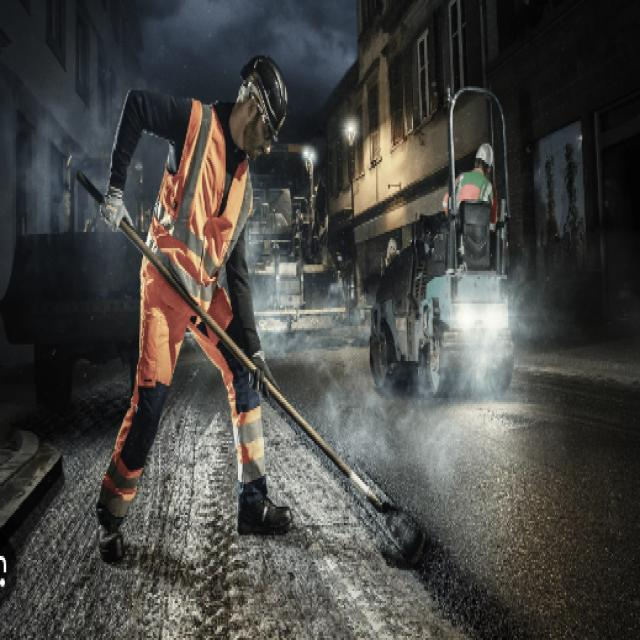hard_hat: (236, 45, 291, 164), (476, 137, 497, 174)
shoes: (92, 480, 297, 566)
vest: (141, 96, 258, 320), (452, 168, 491, 242)
